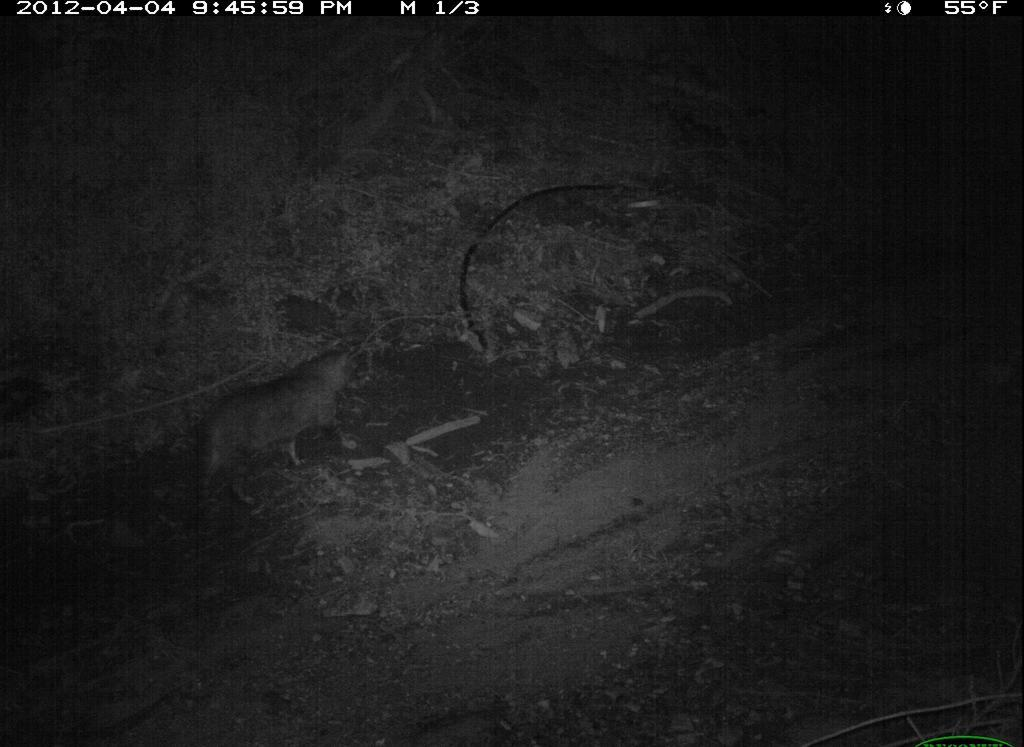cat: (175, 326, 372, 525)
